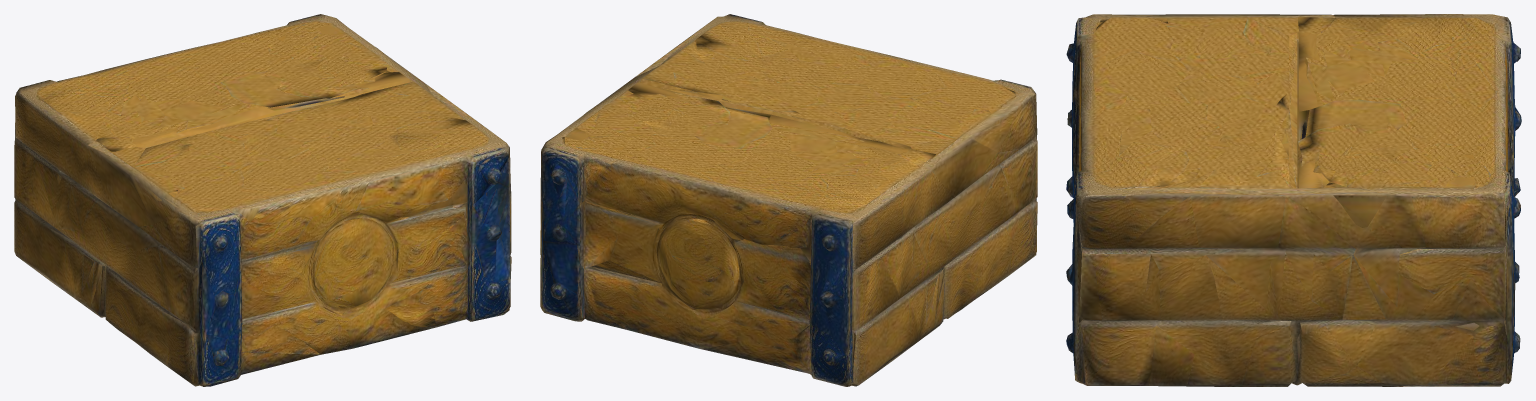
The model's file is springkrat.glb.
The picture shows the model from 3 angles, left to right: view 1: azimuth 30°, elevation 25°; view 2: azimuth 150°, elevation 25°; view 3: azimuth 270°, elevation 25°; orthographic projection. The views are drawn at different scales.
Visible parts, largest first — view 1: mesh_node; view 2: mesh_node; view 3: mesh_node.
Boxes of the visible parts, x1,y1,x2,y2 form: mesh_node: (14,14,511,386); mesh_node: (540,14,1037,386); mesh_node: (1066,14,1521,386).
Size of the model in its own units: 1.89 by 0.9658 by 2.
Materials: 1 (1 with a texture image).
